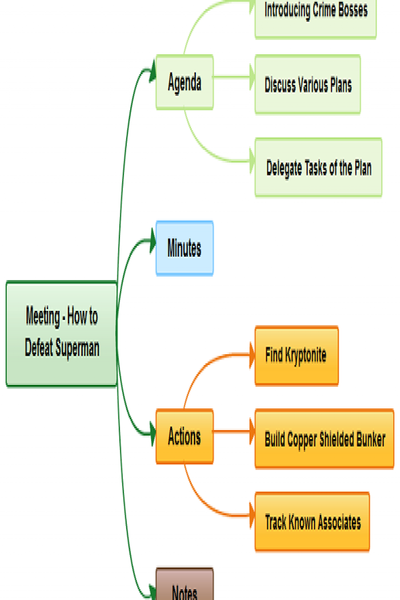arrow: (117, 62, 155, 285), (116, 388, 156, 598), (183, 463, 255, 528), (184, 345, 256, 408), (183, 109, 256, 171), (183, 1, 252, 54), (118, 359, 156, 447), (118, 232, 156, 307), (213, 415, 253, 447), (215, 64, 253, 90)
idea: (4, 279, 118, 389), (253, 408, 395, 471), (254, 136, 383, 198), (253, 490, 372, 553), (253, 53, 362, 114), (253, 325, 340, 388), (253, 1, 376, 36), (154, 408, 215, 466), (153, 55, 214, 111), (155, 221, 213, 277), (155, 567, 214, 600)
